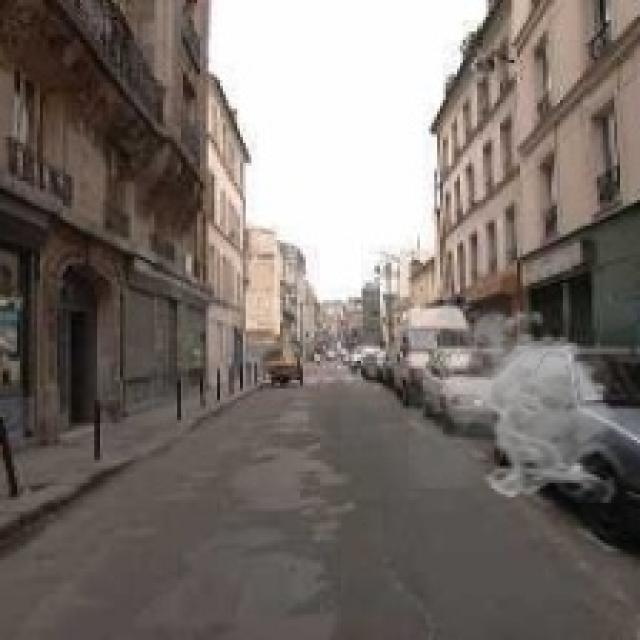smoke: (408, 297, 623, 503)
